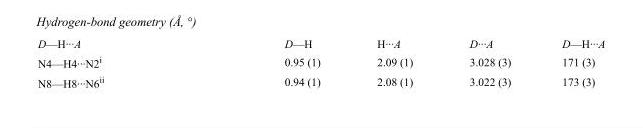table: (37, 36, 604, 89)
table column: (37, 36, 193, 89), (193, 36, 347, 89), (440, 36, 535, 89), (347, 36, 440, 89), (535, 36, 604, 89)
table row: (37, 51, 604, 71), (37, 71, 604, 89), (37, 36, 604, 51)
